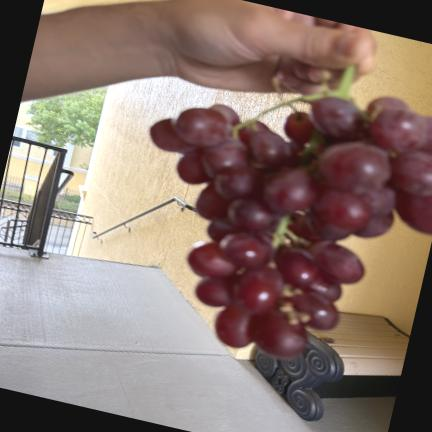grape_cluster: (150, 67, 432, 359)
